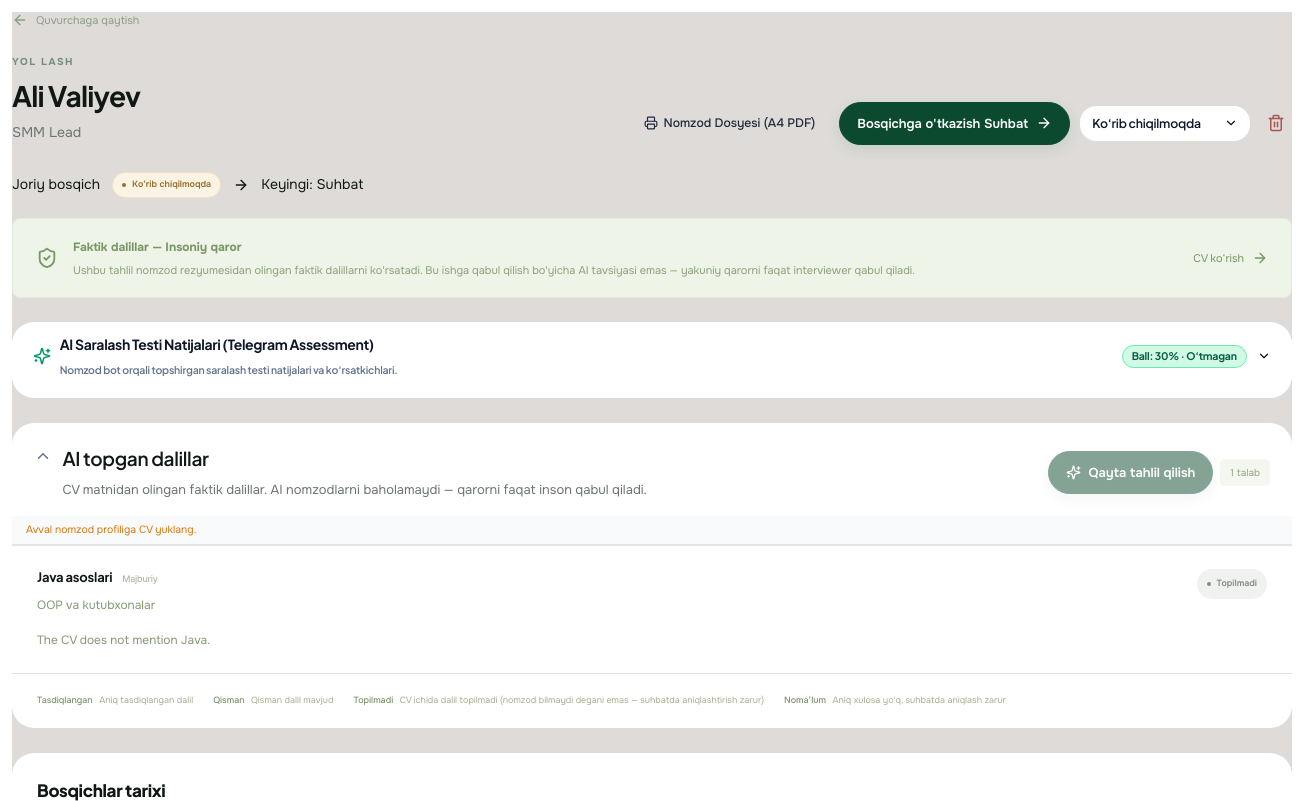
Test case: assessment result accordion › opens to the summary tiles and the answer table, and closes again
This screenshot has width=1304, height=801.
What coordinates should you click on to do the following:
click the button "AI Saralash Testi Natijalari"
I would click on:
 (217, 344)
Its box is [12, 322, 1292, 391].
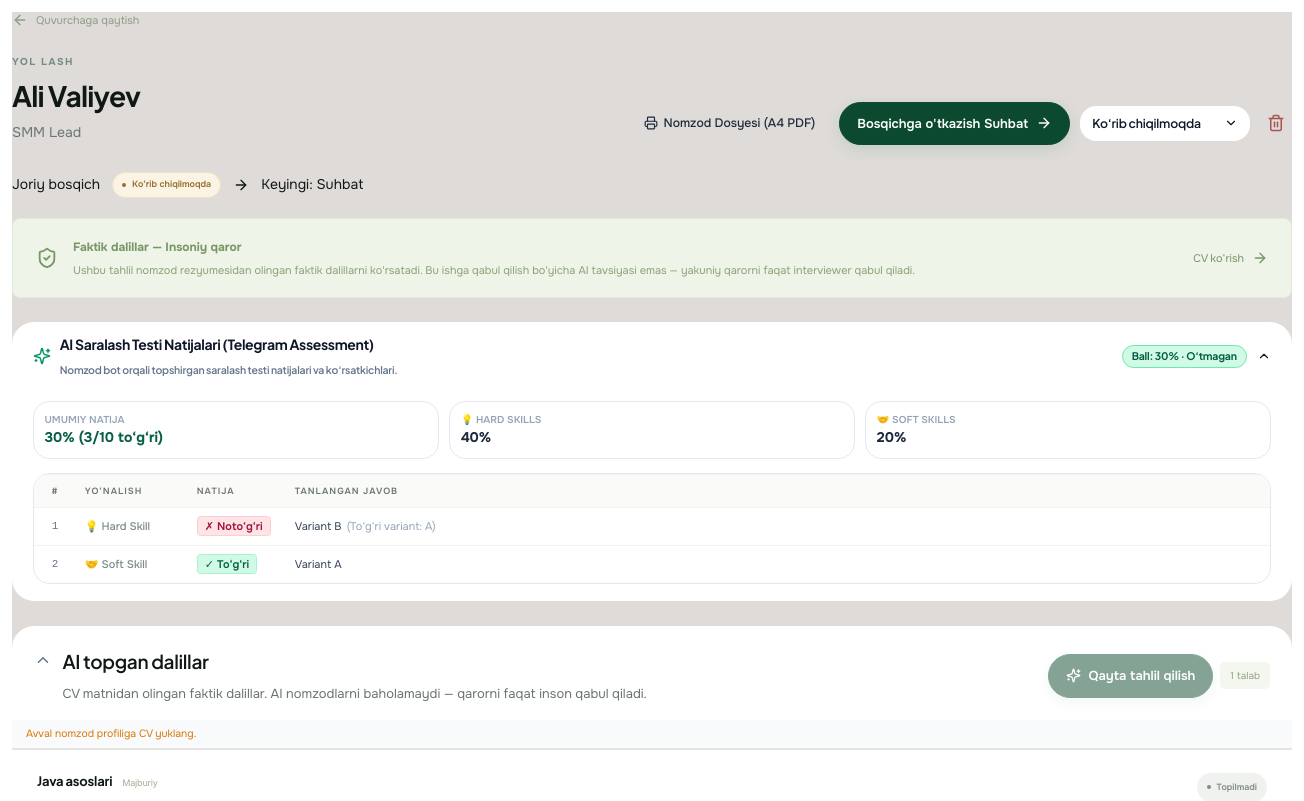
Now the button "AI Saralash Testi Natijalari" is expanded
Now the text "Umumiy natija" is shown, box [44, 413, 124, 426]
Now the text "Variant B(To‘g‘ri variant: A)" is shown, box [286, 507, 1270, 545]
What coordinates should you click on to do the following:
click the button "AI Saralash Testi Natijalari"
I would click on:
 (217, 344)
Its box is [12, 322, 1292, 391].
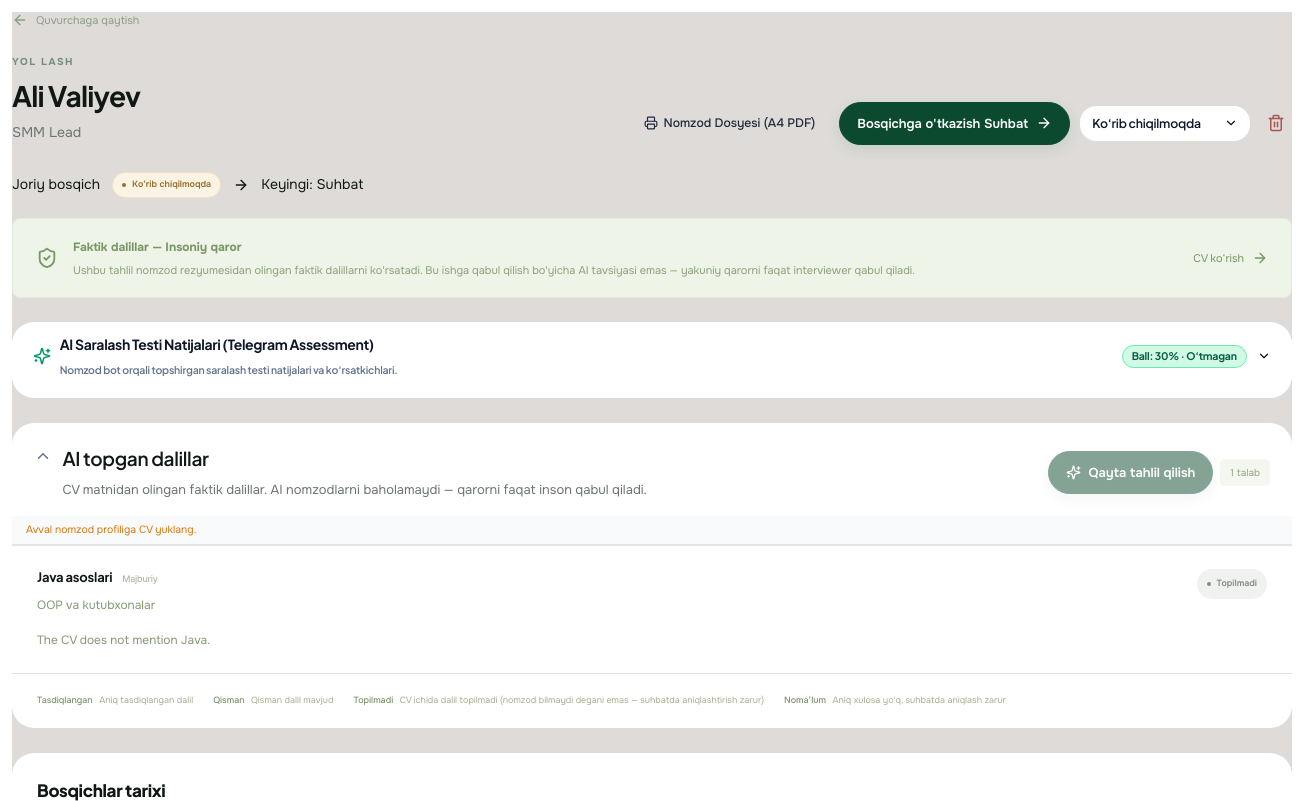
Now the button "AI Saralash Testi Natijalari" is collapsed, box [12, 322, 1292, 391]
